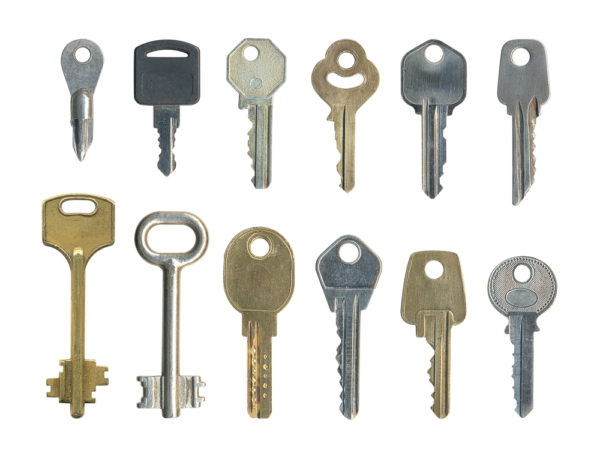key: (35, 192, 123, 424), (129, 207, 209, 430), (218, 219, 298, 421), (401, 243, 480, 426), (389, 34, 471, 205), (313, 231, 386, 417), (486, 252, 558, 422), (126, 33, 205, 181), (224, 35, 297, 195), (309, 32, 375, 198), (494, 36, 556, 211), (54, 34, 115, 169)
